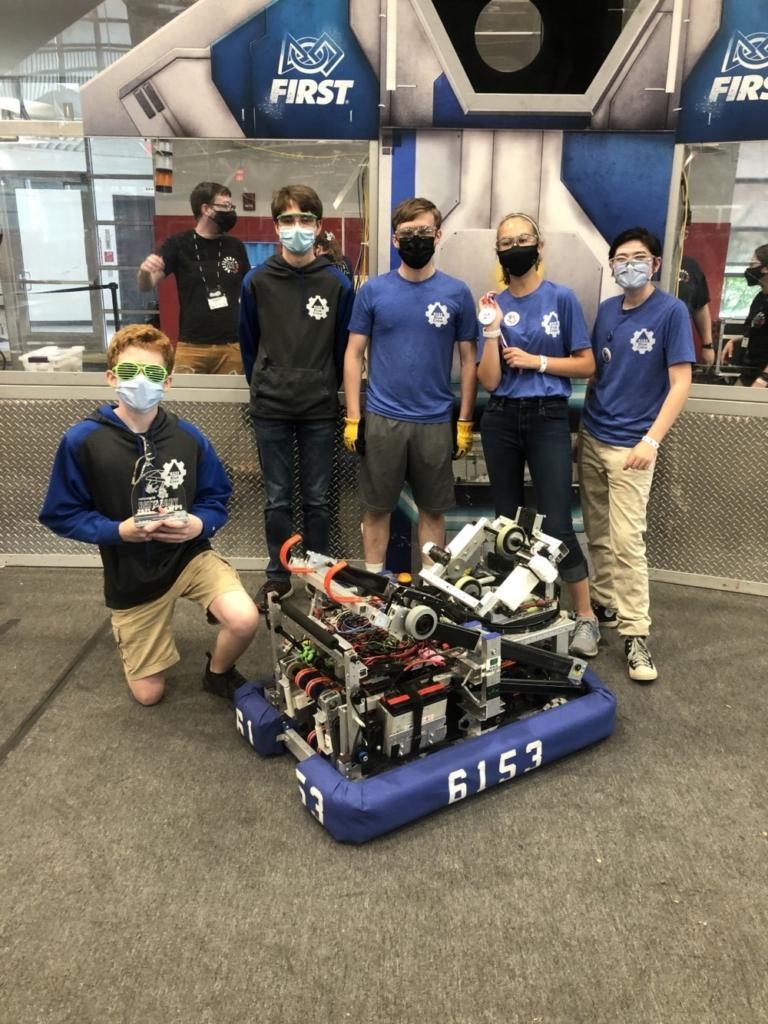robot: (219, 499, 623, 851)
